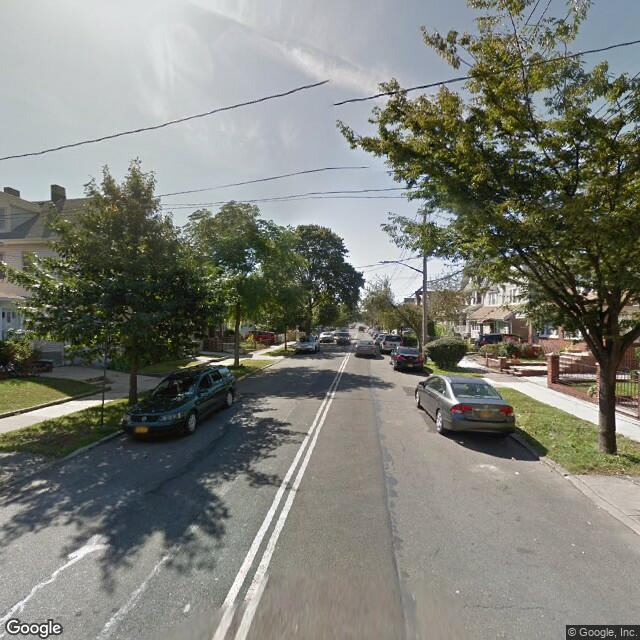litter: (511, 454, 517, 462), (512, 470, 520, 475)
